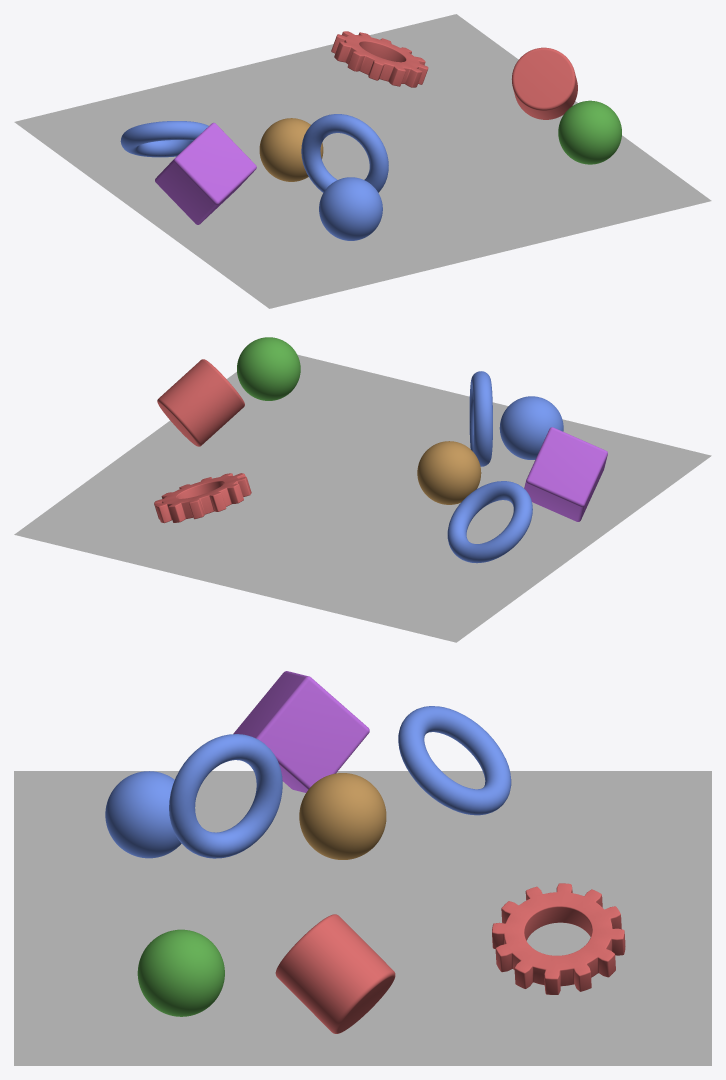
3 renders of one model, top to bottom at view 1: azimuth 30°, elevation 25°; view 2: azimuth 150°, elevation 25°; view 3: azimuth 270°, elevation 25°, orthographic. The views are drawn at different scales.
Parts seen in each view (by area): view 1: Cube, FileBasedObject.005, FileBasedObject.002, FileBasedObject.001, FileBasedObject.007, FileBasedObject.004, FileBasedObject.003, FileBasedObject.006, FileBasedObject; view 2: Cube, FileBasedObject.005, FileBasedObject.002, FileBasedObject, FileBasedObject.003, FileBasedObject.006, FileBasedObject.001, FileBasedObject.004, FileBasedObject.007; view 3: Cube, FileBasedObject.001, FileBasedObject.005, FileBasedObject.002, FileBasedObject.007, FileBasedObject, FileBasedObject.003, FileBasedObject.006, FileBasedObject.004.
Boxes of the visible parts, x1,y1,x2,y2 form: Cube: (14,14,711,308); FileBasedObject.005: (155,122,256,224); FileBasedObject.002: (511,47,577,119); FileBasedObject.001: (331,31,428,87); FileBasedObject.007: (301,114,388,192); FileBasedObject.004: (319,177,382,240); FileBasedObject.003: (558,100,621,164); FileBasedObject.006: (259,118,323,181); FileBasedObject: (120,121,208,157); Cube: (14,354,711,642); FileBasedObject.005: (524,427,607,521); FileBasedObject.002: (157,359,244,446); FileBasedObject: (447,481,532,563); FileBasedObject.003: (237,337,300,400); FileBasedObject.006: (417,441,481,504); FileBasedObject.001: (154,473,251,523); FileBasedObject.004: (499,396,563,459); FileBasedObject.007: (469,371,492,466); Cube: (14,771,711,1065); FileBasedObject.001: (492,883,625,994); FileBasedObject.005: (233,671,369,792); FileBasedObject.002: (275,914,395,1033); FileBasedObject.007: (169,734,282,858); FileBasedObject: (398,706,511,815); FileBasedObject.003: (137,929,224,1016); FileBasedObject.006: (299,773,386,859); FileBasedObject.004: (105,771,181,858).
Bounding box in the file's own units: 8 × 1.72 × 8.
